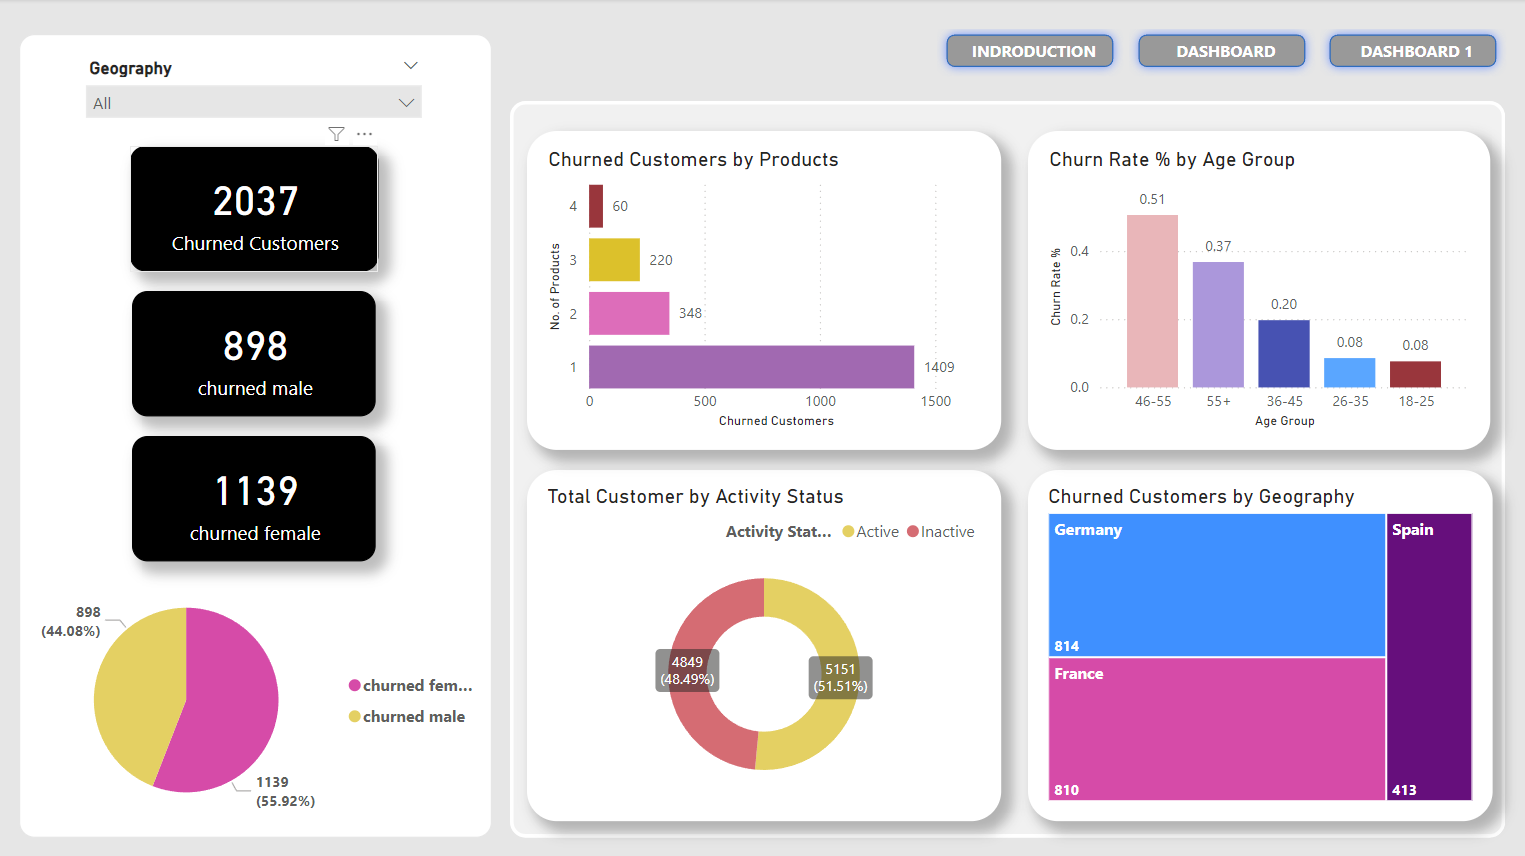

What the dashboard file says about the page in this screenshot:
{"tool":"powerbi","page":{"name":"DASHBOARD 2","canvas":[1280,720],"ordinal":2},"visuals":[{"type":"group","id":"g1","title":"Group 3","box":[784.9,21.6,155.7,43.1],"z":0,"group":"g2"},{"type":"shape","box":[16.4,29.3,395.9,672.8],"z":0},{"type":"shape","box":[427.8,85.4,833.2,616.7],"z":0,"group":"g5"},{"type":"group","id":"g2","title":"Group 5","box":[784.9,21.6,476.1,43.1],"z":1000},{"type":"group","id":"g3","title":"Group 3","box":[946,21.6,155.7,43.1],"z":1000,"group":"g2"},{"type":"treemap","fields":{"Group":["Churn_Modelling.Geography"],"Values":["Churn_Modelling.Churned Customers"]},"box":[861.5,394.2,389,294.1],"z":1000,"group":"g5"},{"type":"group","id":"g4","title":"Group 3","box":[1105.4,21.6,155.7,43.1],"z":2000,"group":"g2"},{"type":"slicer","fields":{"Values":["Churn_Modelling.Geography"]},"box":[63,44.7,301,78.4],"z":2000},{"type":"donutChart","fields":{"Y":["Churn_Modelling.Total Customer"],"Category":["Churn_Modelling.Activity Status"]},"box":[441.8,394.2,396.9,294.1],"z":2000,"group":"g5"},{"type":"columnChart","fields":{"Category":["Churn_Modelling.Age Group"],"Y":["Churn_Modelling.Churn Rate %"]},"box":[861.5,110.4,387.3,266.5],"z":3000,"group":"g5"},{"type":"card","fields":{"Values":["Churn_Modelling.Churned Customers"]},"box":[109.5,123.3,207.9,105.2],"z":3000},{"type":"clusteredBarChart","title":"Churned Customers by Products","fields":{"Category":["Churn_Modelling.NumOfProducts"],"Y":["Churn_Modelling.Churned Customers"]},"box":[441.8,110.4,396.9,266.5],"z":4000,"group":"g5"},{"type":"card","fields":{"Values":["Churn_Modelling.churned male"]},"box":[111.3,244.1,204.4,105.2],"z":4000},{"type":"card","fields":{"Values":["Churn_Modelling.churned female"]},"box":[111.3,365.7,204.4,105.2],"z":5000},{"type":"pieChart","fields":{"Y":["Churn_Modelling.churned female","Churn_Modelling.churned male"]},"box":[16.4,470.9,395.9,231.2],"z":6000},{"type":"group","id":"g5","title":"Group 1","box":[427.8,85.4,833.2,616.7],"z":7000},{"type":"shape","title":"INDRODUCTION","box":[784.9,21.6,155.7,43.1],"z":13000,"group":"g1"},{"type":"shape","title":"INDRODUCTION","box":[946,21.6,155.7,43.1],"z":13000,"group":"g3"},{"type":"shape","title":"INDRODUCTION","box":[1105.4,21.6,155.7,43.1],"z":13000,"group":"g4"},{"type":"textbox","box":[804.1,29.4,123.6,26.7],"z":14000,"group":"g1"},{"type":"textbox","box":[965.2,29.4,123.6,26.7],"z":14000,"group":"g3"},{"type":"textbox","box":[1124.6,29.4,123.6,26.7],"z":14000,"group":"g4"}]}

Visuals, with their boxes in screenshot pixels (x1, y1, x2, y2), scaled from the page's 1280x720 canvas onto the 1525x856 screenshot:
"Group 3" group: bbox=(935, 26, 1121, 77)
shape: bbox=(20, 35, 491, 835)
shape: bbox=(510, 102, 1502, 835)
"Group 5" group: bbox=(935, 26, 1502, 77)
"Group 3" group: bbox=(1127, 26, 1313, 77)
treemap - Churn_Modelling.Geography x Churn_Modelling.Churned Customers: bbox=(1026, 469, 1490, 818)
"Group 3" group: bbox=(1317, 26, 1502, 77)
slicer - Churn_Modelling.Geography: bbox=(75, 53, 434, 146)
donutChart - Churn_Modelling.Total Customer x Churn_Modelling.Activity Status: bbox=(526, 469, 999, 818)
columnChart - Churn_Modelling.Age Group x Churn_Modelling.Churn Rate %: bbox=(1026, 131, 1488, 448)
card - Churn_Modelling.Churned Customers: bbox=(130, 147, 378, 272)
"Churned Customers by Products" clusteredBarChart: bbox=(526, 131, 999, 448)
card - Churn_Modelling.churned male: bbox=(133, 290, 376, 415)
card - Churn_Modelling.churned female: bbox=(133, 435, 376, 560)
pieChart - Churn_Modelling.churned female x Churn_Modelling.churned male: bbox=(20, 560, 491, 835)
"Group 1" group: bbox=(510, 102, 1502, 835)
"INDRODUCTION" shape: bbox=(935, 26, 1121, 77)
"INDRODUCTION" shape: bbox=(1127, 26, 1313, 77)
"INDRODUCTION" shape: bbox=(1317, 26, 1502, 77)
textbox: bbox=(958, 35, 1105, 67)
textbox: bbox=(1150, 35, 1297, 67)
textbox: bbox=(1340, 35, 1487, 67)
